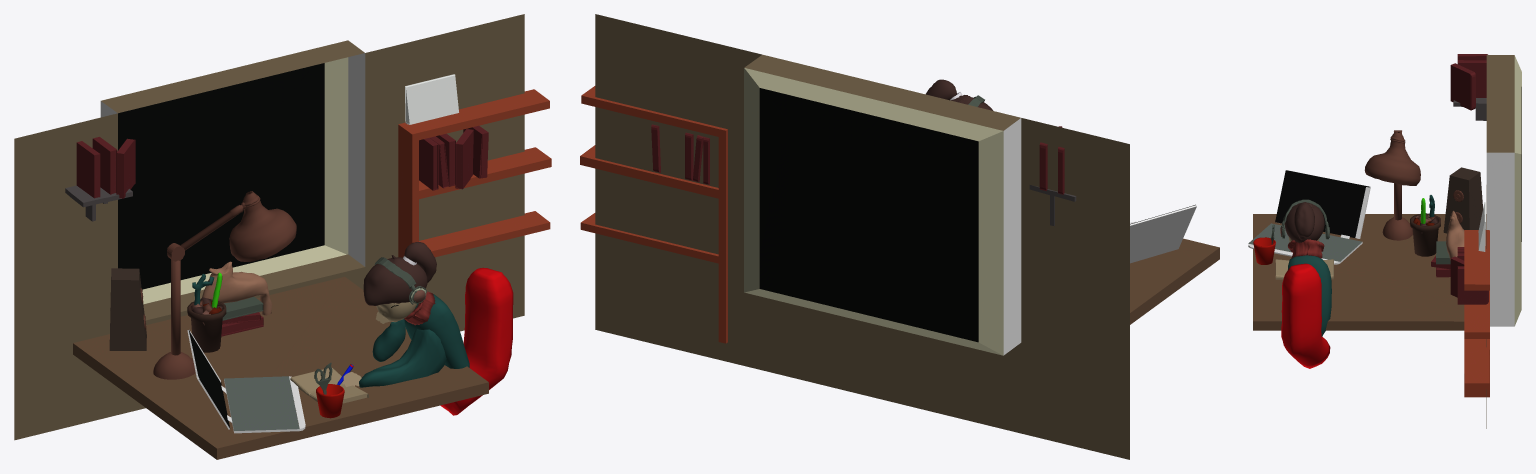
Rendered from study-transformed.glb.
The picture shows the model from 3 angles, left to right: view 1: azimuth 30°, elevation 25°; view 2: azimuth 150°, elevation 25°; view 3: azimuth 270°, elevation 25°; orthographic projection. The views are drawn at different scales.
Parts seen in each view (by area): view 1: Cube.005_Material.004_0; view 2: Cube.005_Material.004_0; view 3: Cube.005_Material.004_0.
Part boxes in pixels (box(x1,y1,x2,y2)): Cube.005_Material.004_0: box(14, 14, 551, 459); Cube.005_Material.004_0: box(580, 14, 1219, 459); Cube.005_Material.004_0: box(1248, 54, 1521, 428).
Size of the model in its own units: 2448 by 1348 by 1369.
1 material, 1 textured.
